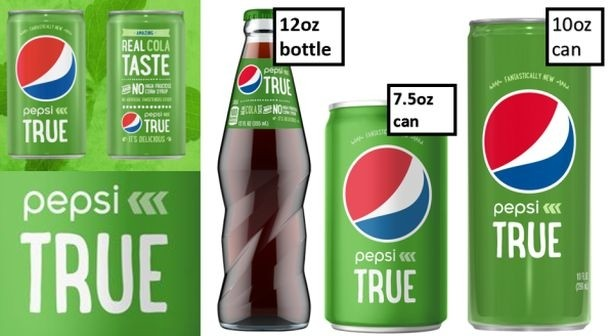pepsi: (480, 89, 578, 193), (480, 87, 576, 193), (480, 89, 576, 193), (336, 142, 431, 242), (341, 142, 431, 242), (16, 29, 77, 101), (14, 33, 77, 101), (16, 33, 77, 101), (237, 60, 262, 94), (119, 109, 141, 132)
